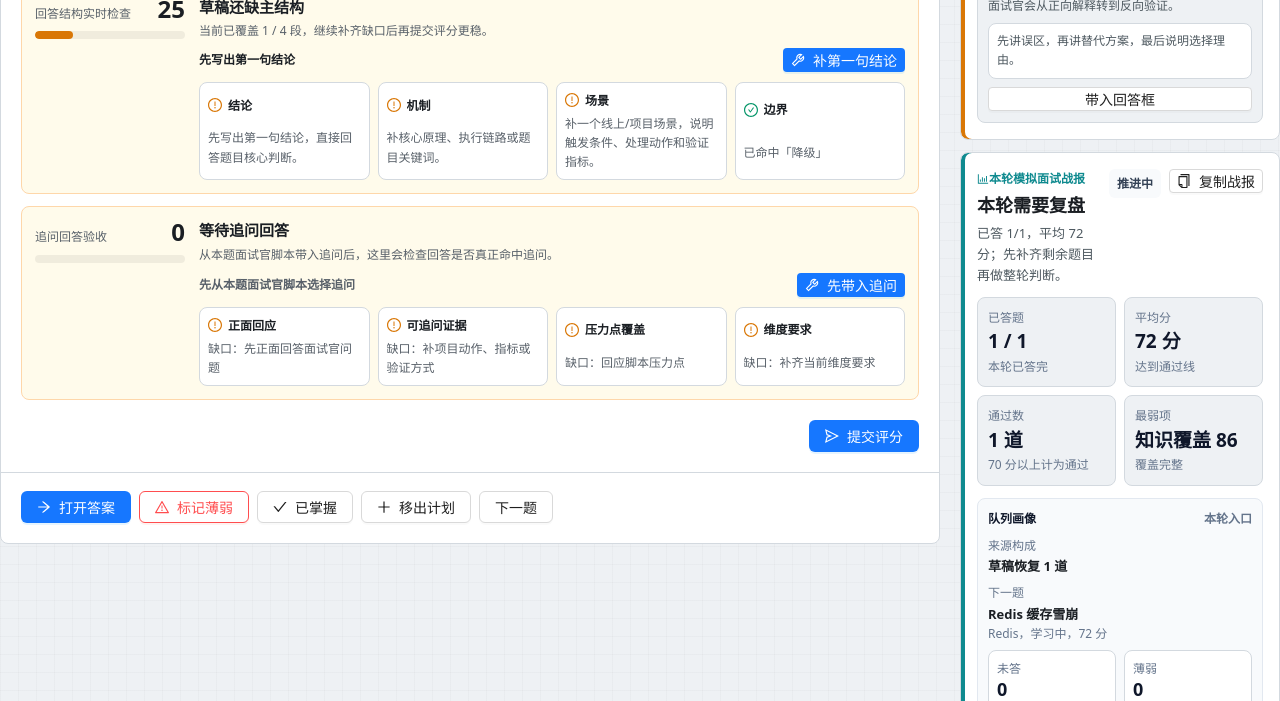
Scenario: Practice page answer draft lifecycle › keeps resumed draft context and ignores historical scores for this scoped session
(page scrolled)
Click the button "提交评分" at coordinates (864, 436), box [809,420,919,452]
(page scrolled)
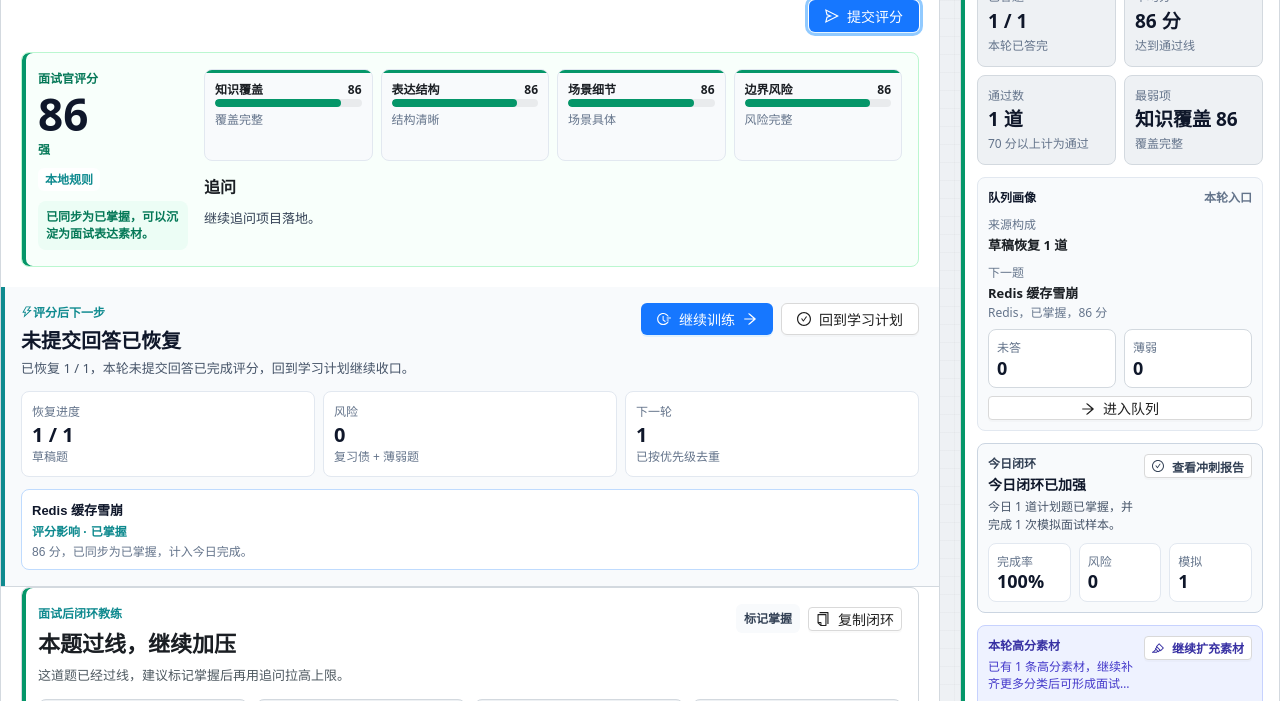
Check: the text "面试官评分" is shown, box [38,70,98,87]
Check: the element labelled "评分后下一步" shows "未提交回答已恢复", box [21,327,181,354]
